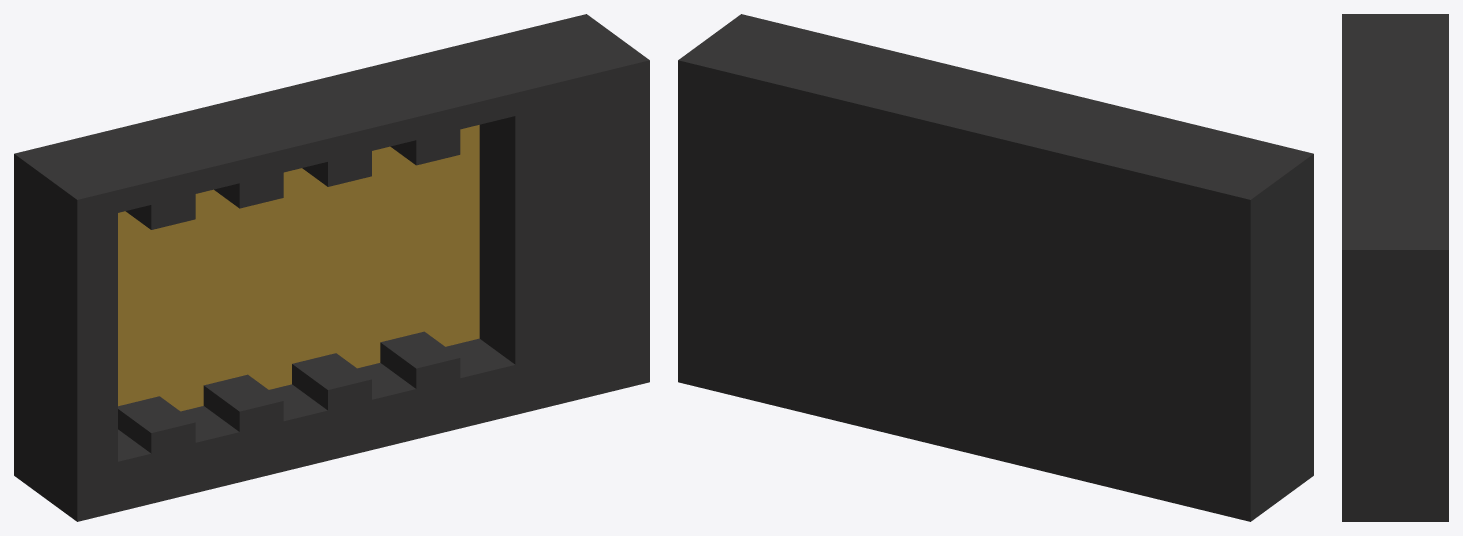
Rendered from caja_fusible.fbx.
3 views of the same model, side by side, from view 1: azimuth 30°, elevation 25°; view 2: azimuth 150°, elevation 25°; view 3: azimuth 270°, elevation 25° (orthographic). The views are drawn at different scales.
Parts seen in each view (by area): view 1: Cube.001; view 2: Cube.001; view 3: Cube.001.
Part boxes in pixels (x1,y1,x2,y2): Cube.001: (14, 14, 649, 521); Cube.001: (678, 14, 1313, 521); Cube.001: (1342, 14, 1448, 521).
Size of the model in its own units: 455 by 244 by 86.98.
